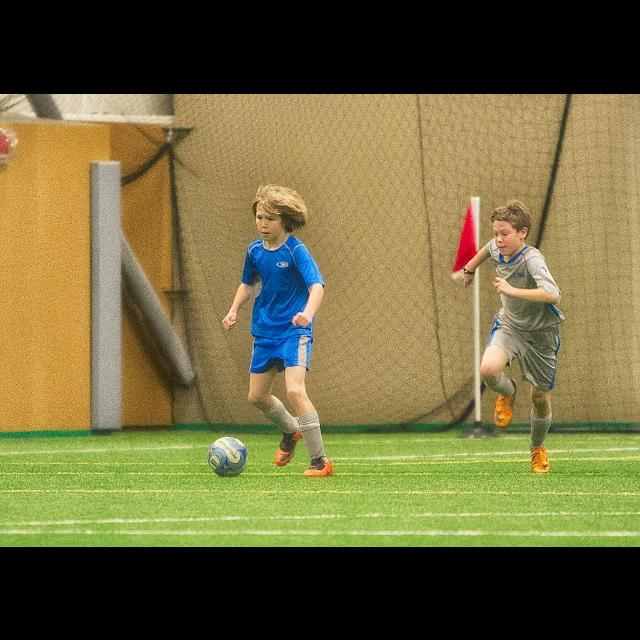Football: (207, 434, 250, 474)
